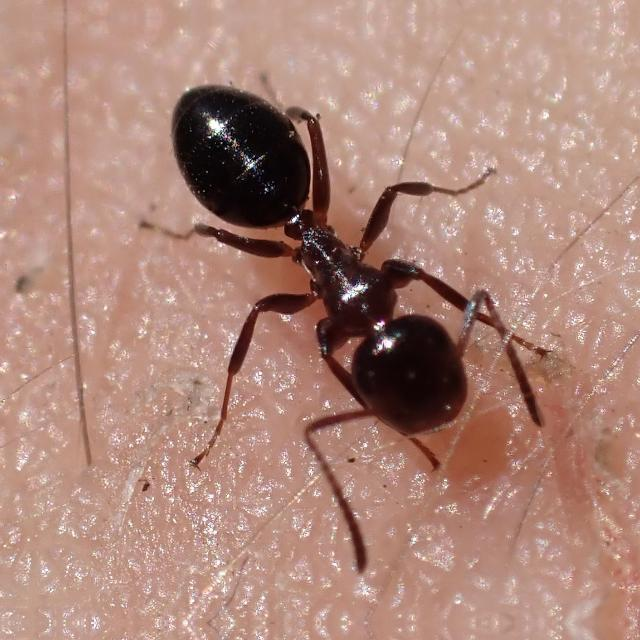Colobopsis: (151, 72, 501, 460)
